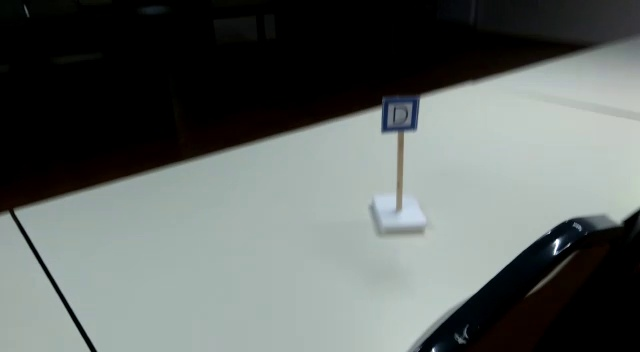durak: (383, 96, 419, 128)
